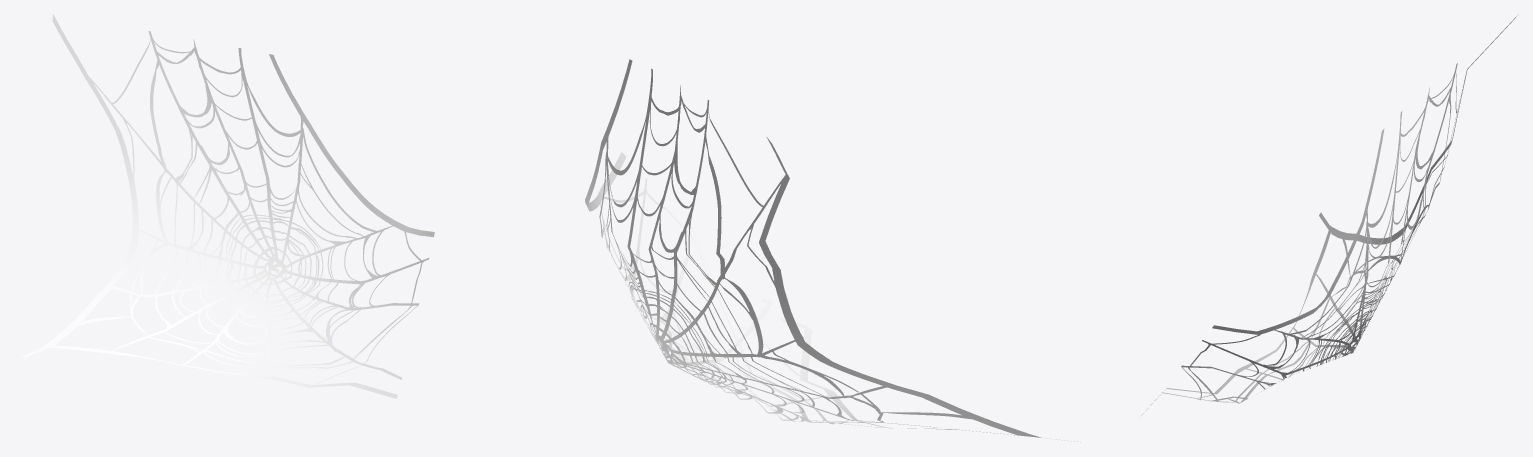
The model's file is CobbWebb1.FBX.
3 views of the same model, side by side, from view 1: azimuth 30°, elevation 25°; view 2: azimuth 150°, elevation 25°; view 3: azimuth 270°, elevation 25° (orthographic). The views are drawn at different scales.
Visible parts, largest first — view 1: CobWeb; view 2: CobWeb; view 3: CobWeb.
Part boxes in pixels (x1,y1,x2,y2): CobWeb: (21,14,434,398); CobWeb: (585,59,1080,442); CobWeb: (1141,15,1517,415).
Bounding box in the file's own units: 13.82 × 10.12 × 10.43.
Materials: 1 (1 with a texture image).
